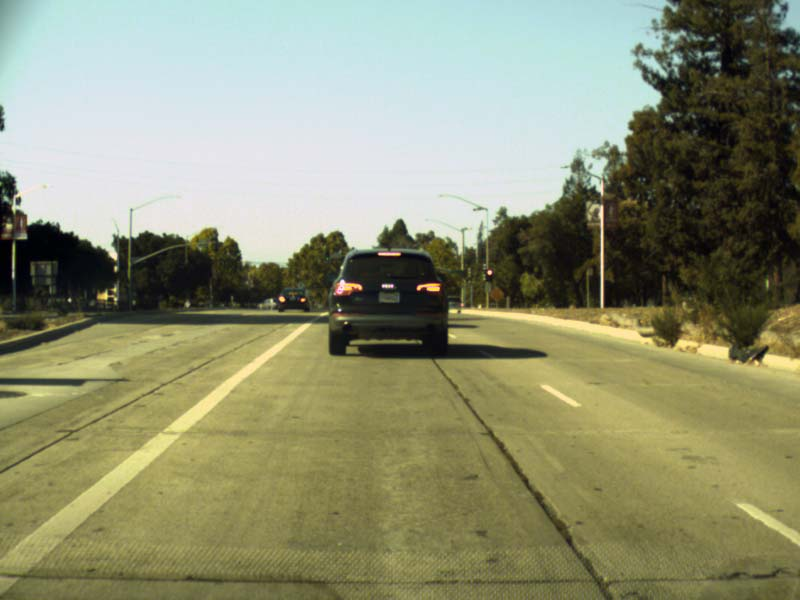Green: (325, 250, 328, 261)
Red: (486, 268, 492, 281)
